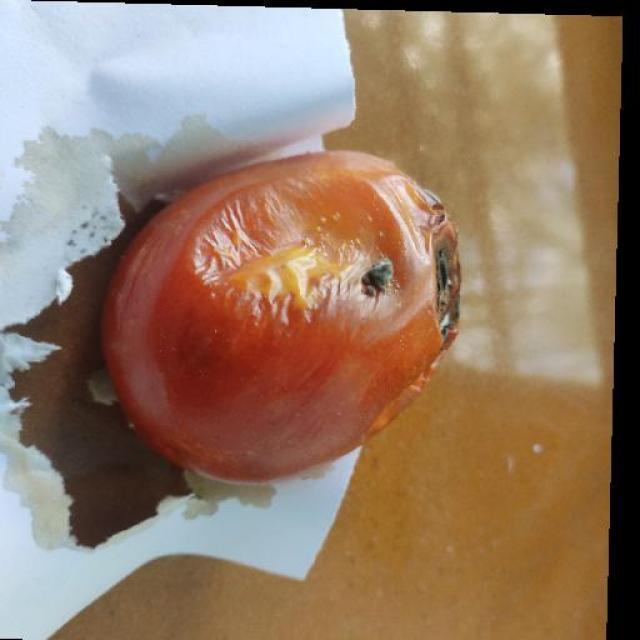Rotten Tomato: (99, 125, 482, 512)
